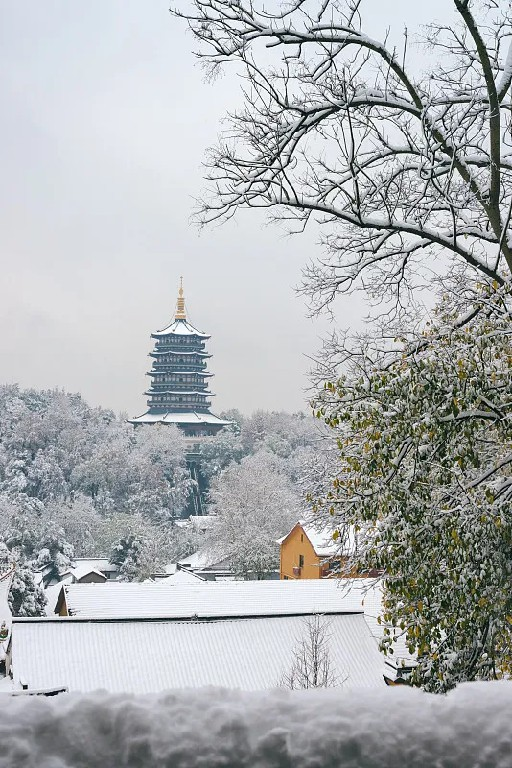Leifeng: (130, 274, 230, 439)
